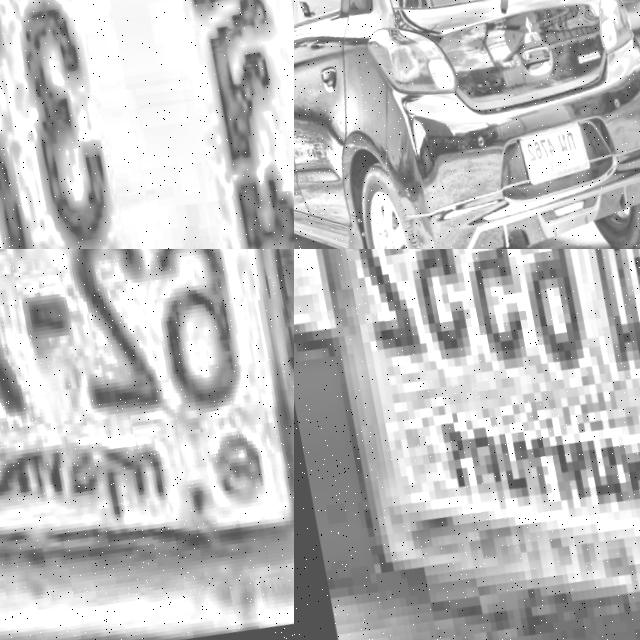license-plate: (299, 249, 640, 640), (0, 249, 294, 636), (0, 0, 294, 249), (515, 111, 592, 185)
